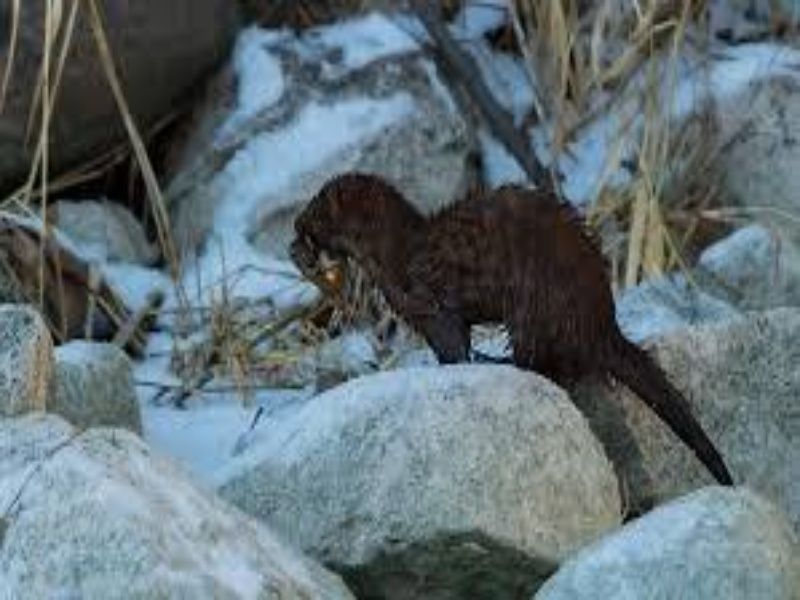minkish: (293, 169, 739, 492)
